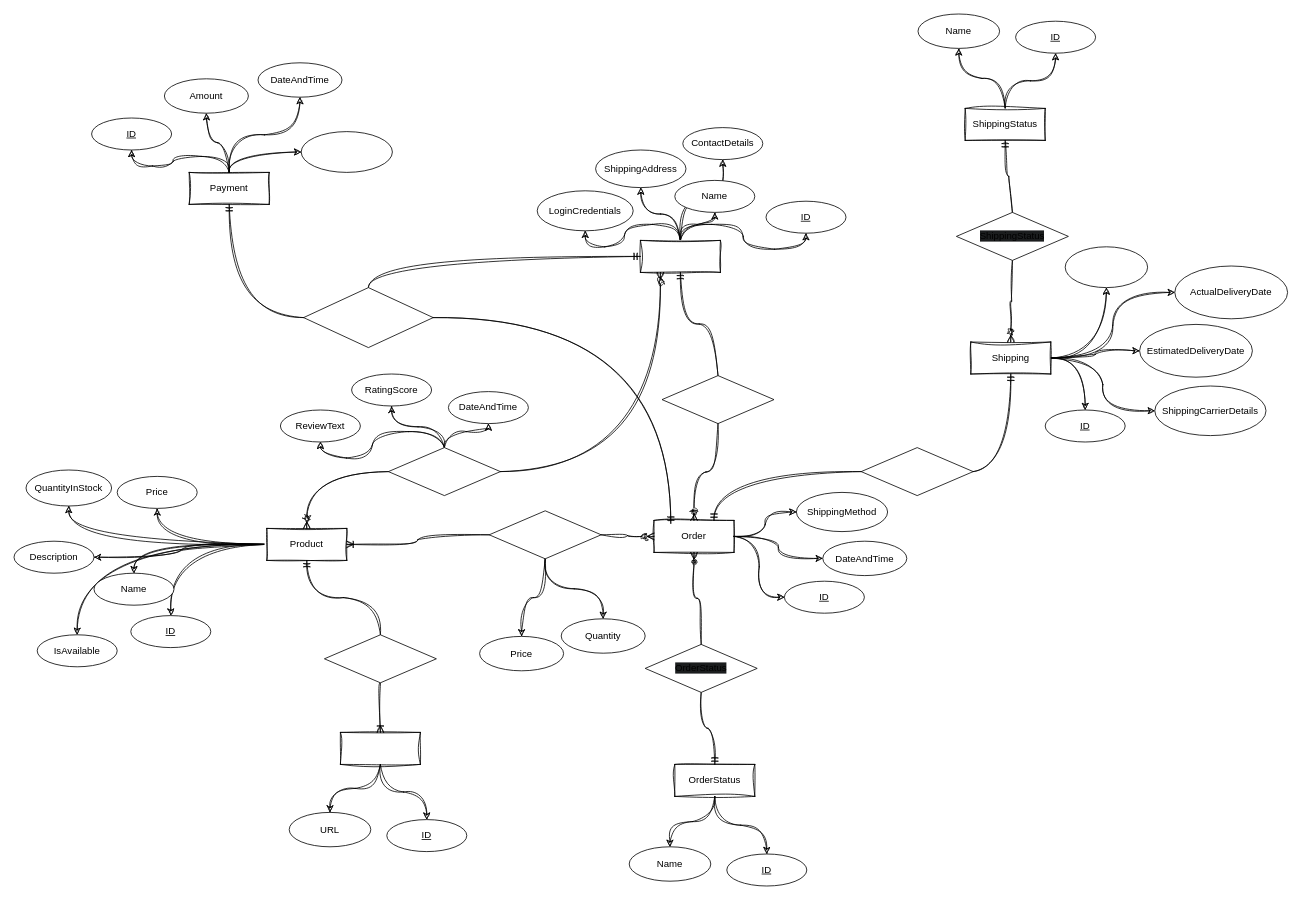
This 1302x900 diagram has some shape labels left out. The shapes that lost their labels are listed below. From the top down, each one's centre as x and y in pixels, then its label:
At pixel 346 151: "PaymentMethod".
At pixel 680 256: "Customer".
At pixel 1106 267: "Notes".
At pixel 368 317: "OrderPayment".
At pixel 717 399: "MakeOrder".
At pixel 444 471: "Rating".
At pixel 916 471: "ShippingOrder".
At pixel 544 534: "ContainProduct".
At pixel 380 658: "ProductImage".
At pixel 380 748: "Image".
